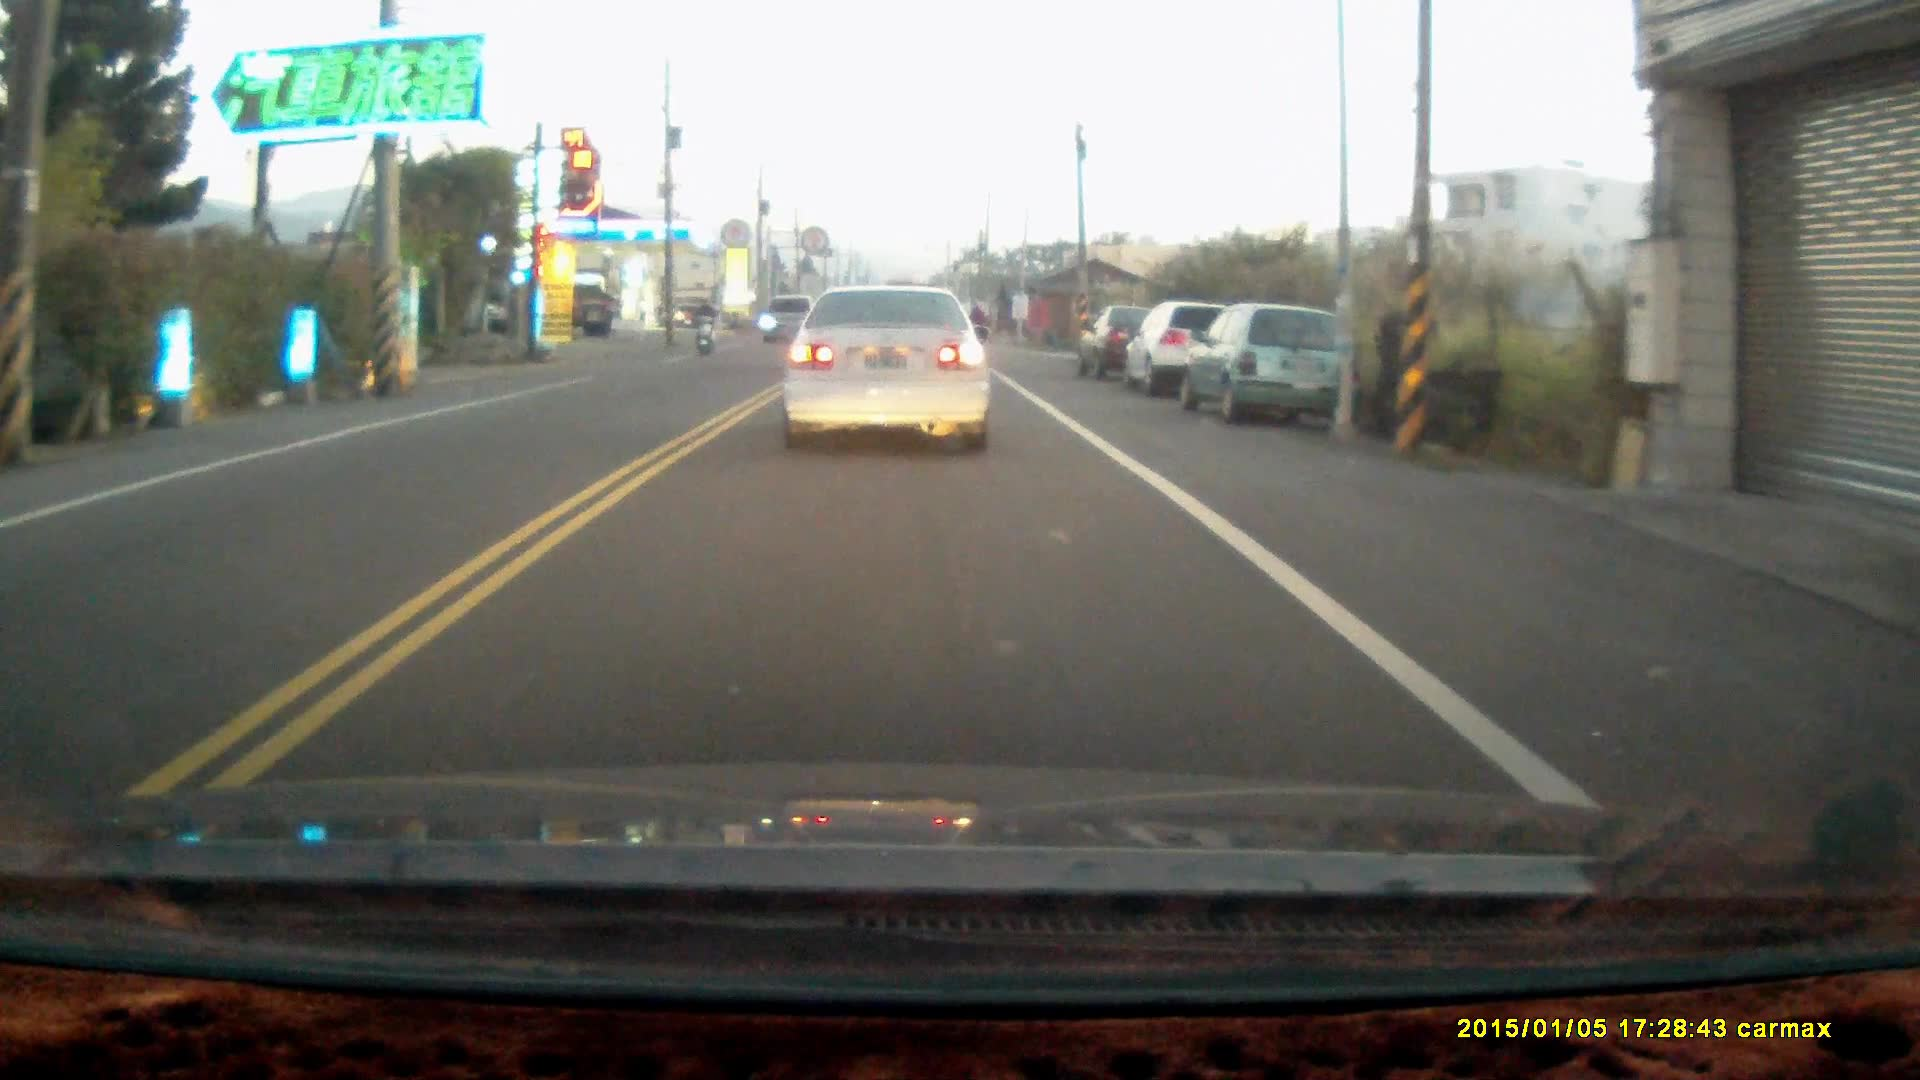rider: (692, 296, 718, 358)
vehicle: (783, 282, 995, 454), (1178, 304, 1360, 427), (1129, 303, 1258, 404), (1084, 306, 1181, 377), (760, 293, 827, 348)
